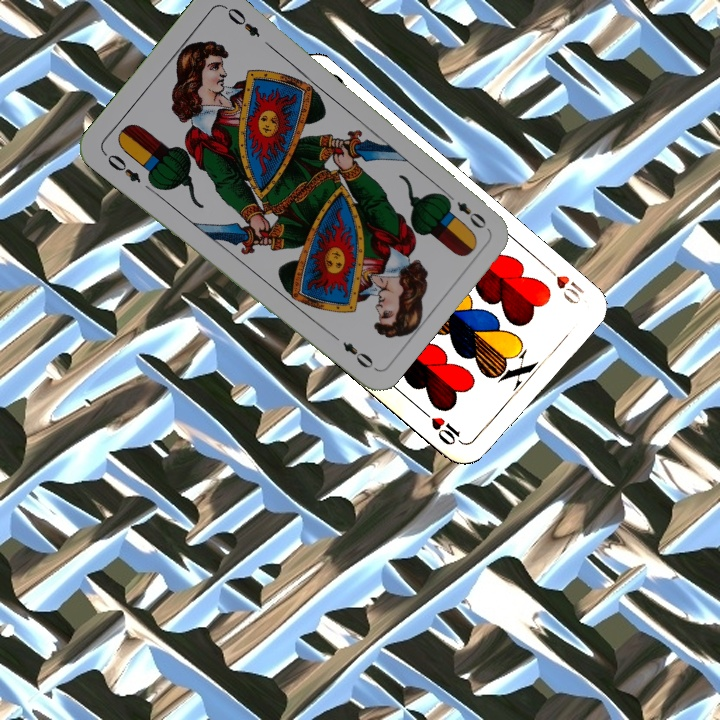EO: (440, 188, 489, 232), (99, 148, 144, 186)
H10: (538, 259, 587, 307)
